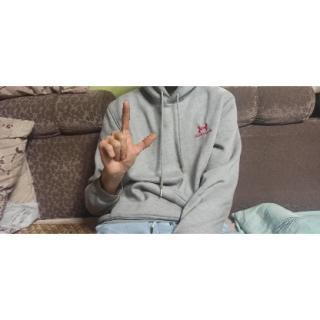LAAM: (98, 99, 158, 182)
